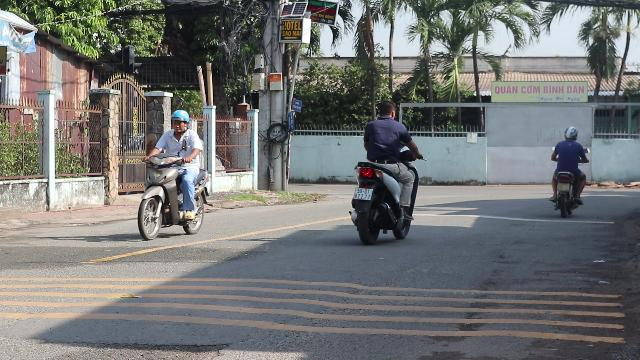helmet: (169, 109, 189, 133)
licenseplate: (353, 188, 372, 200)
motorcyclist: (347, 99, 421, 243), (134, 108, 212, 241)
nohelmet: (376, 100, 396, 120)
